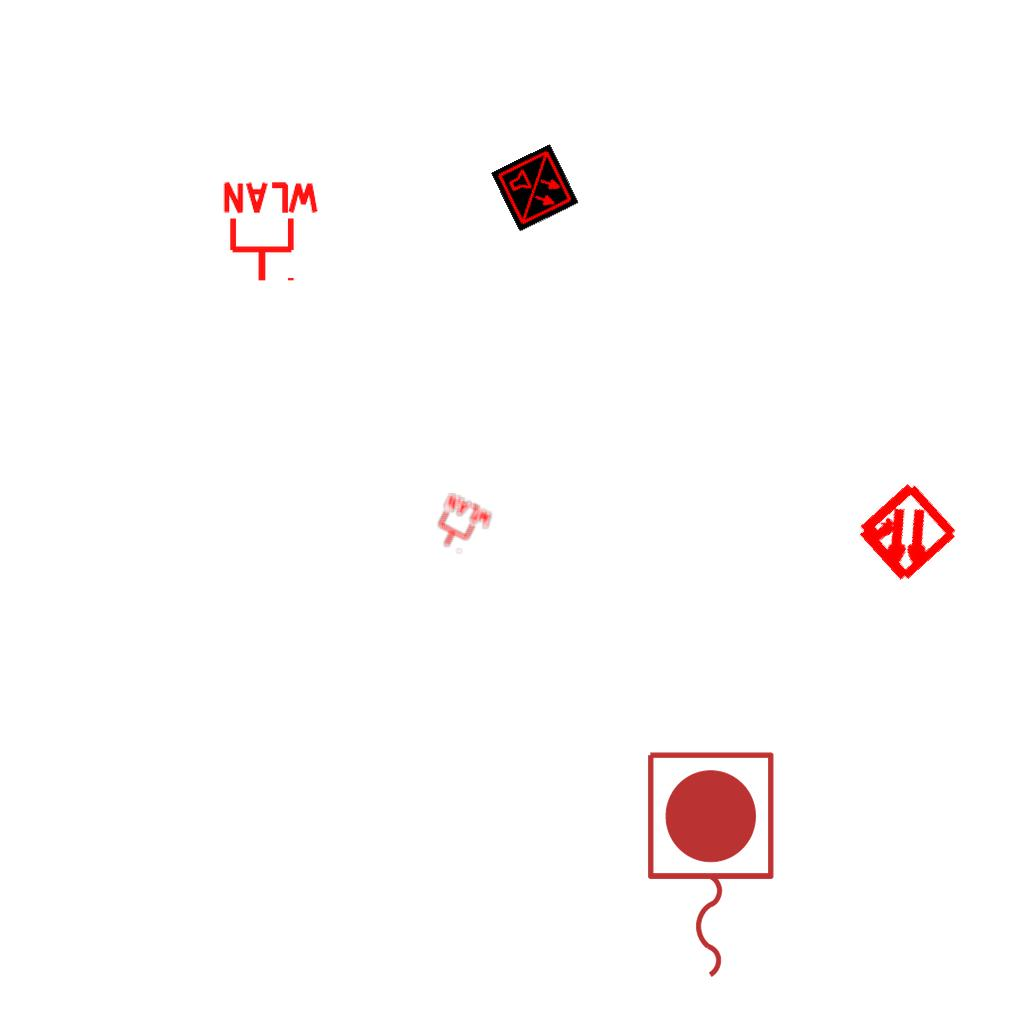OKW_Multisensormelder_(Kombination_optischer_Rauch-Kahlenmonoxid_Waerme-Melder): (490, 143, 580, 233)
OT_Multisensormelder_(Kombination_RMO_WMD): (825, 453, 986, 614)
WLAN: (219, 180, 323, 285), (426, 491, 496, 561)
Zugtaster: (637, 744, 781, 988)
